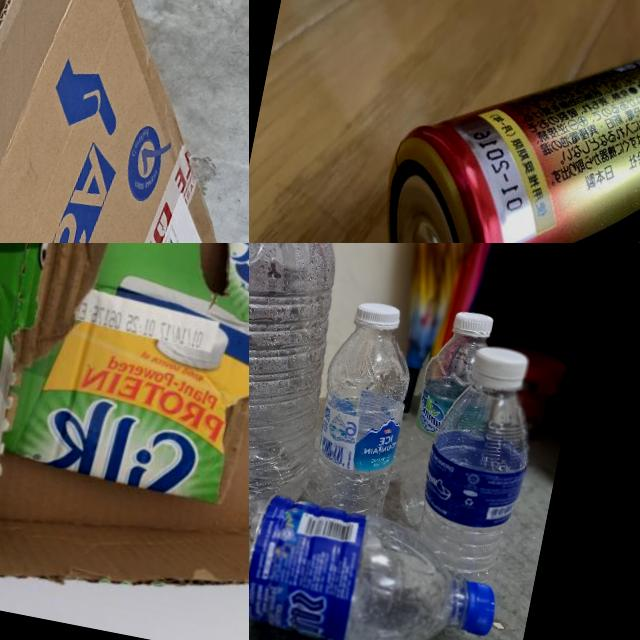bateria: (346, 0, 640, 243)
garrafa plástica: (249, 456, 475, 640), (249, 243, 365, 543), (406, 376, 542, 590), (302, 318, 418, 518), (394, 330, 488, 533)
papelão: (0, 243, 249, 640), (0, 0, 249, 243)
tampa plástica: (470, 344, 530, 389), (458, 580, 498, 638), (452, 309, 495, 341), (355, 299, 402, 328)
